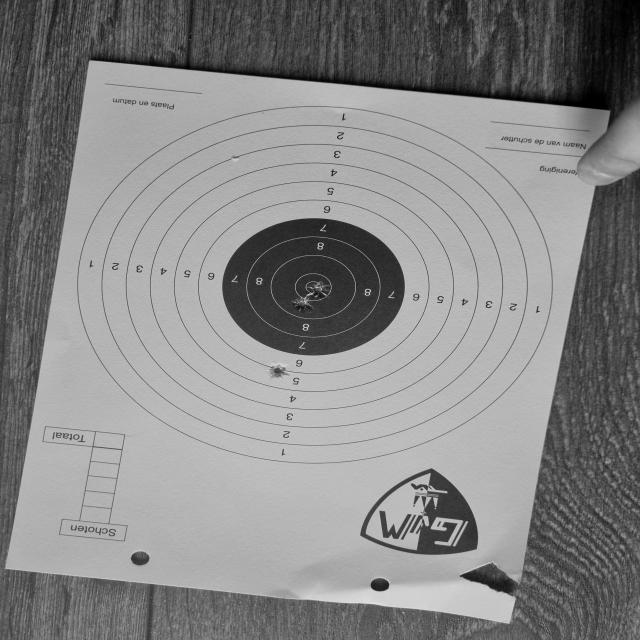10: (305, 282, 331, 300), (292, 297, 312, 312)
6: (269, 364, 289, 378)
Target: (75, 106, 555, 464)
black_contour: (223, 218, 403, 356)
